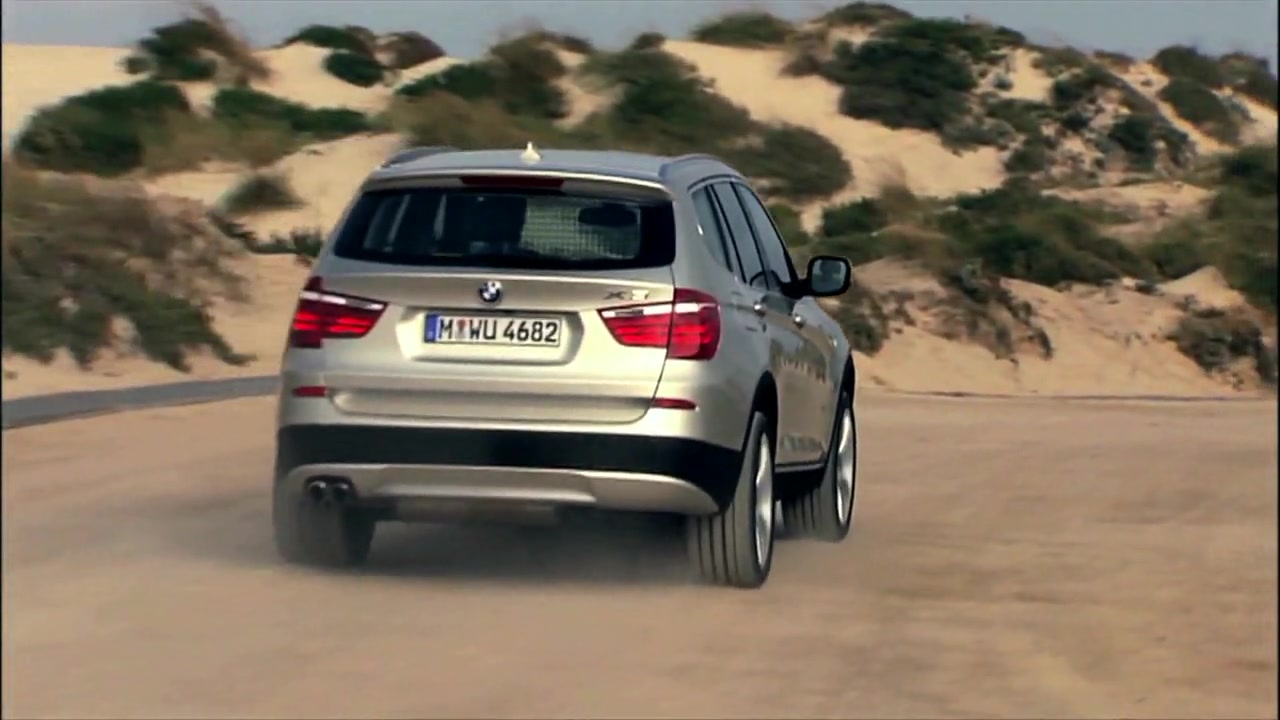car: (266, 148, 860, 591)
